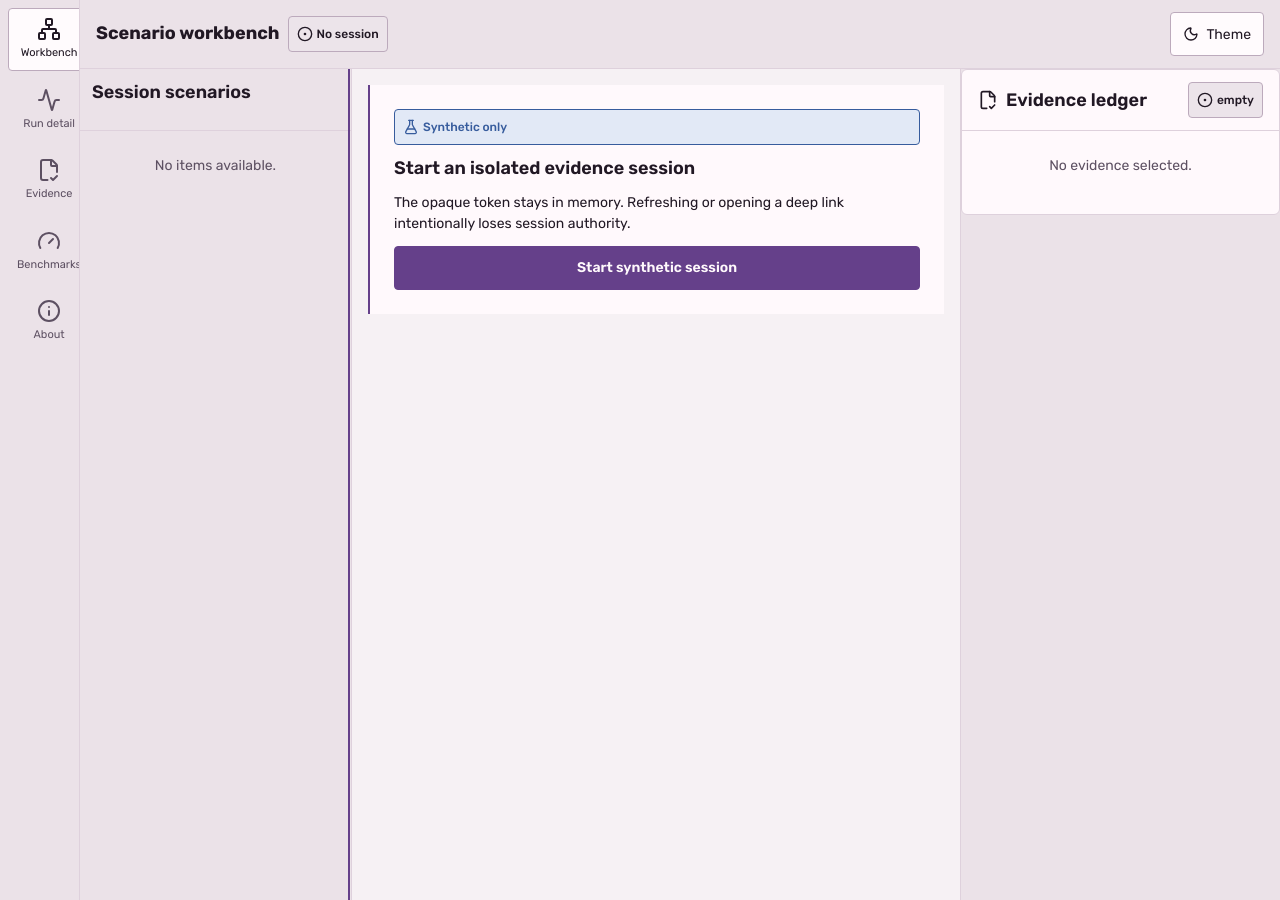
it: governed console lifecycle › keeps an empty scenario seed local and shows an actionable field error
Click the button "Start synthetic session" at (657, 268), box [394,246,920,290]
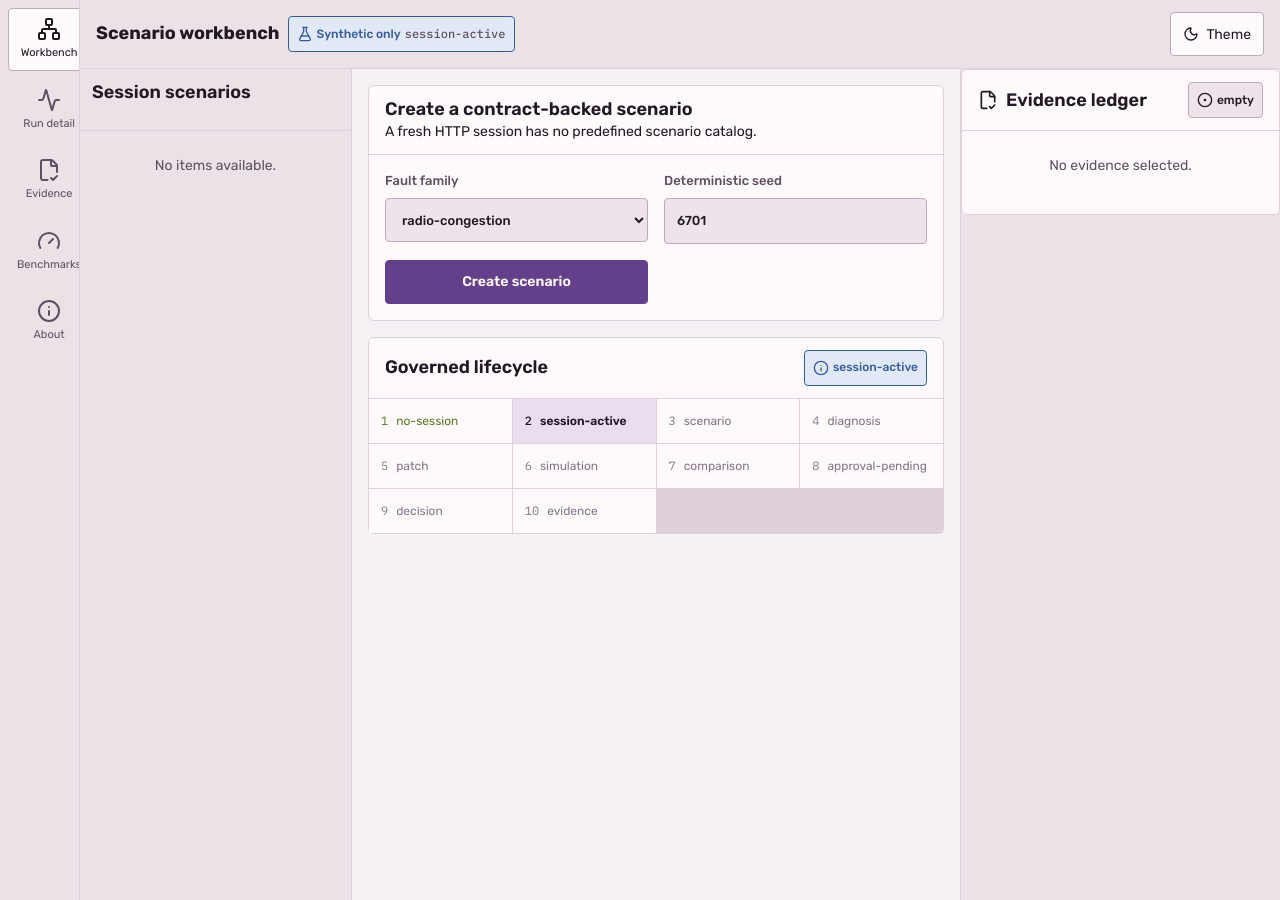
Clear the number field labelled "Deterministic seed" at (796, 221), box [664,198,927,244]
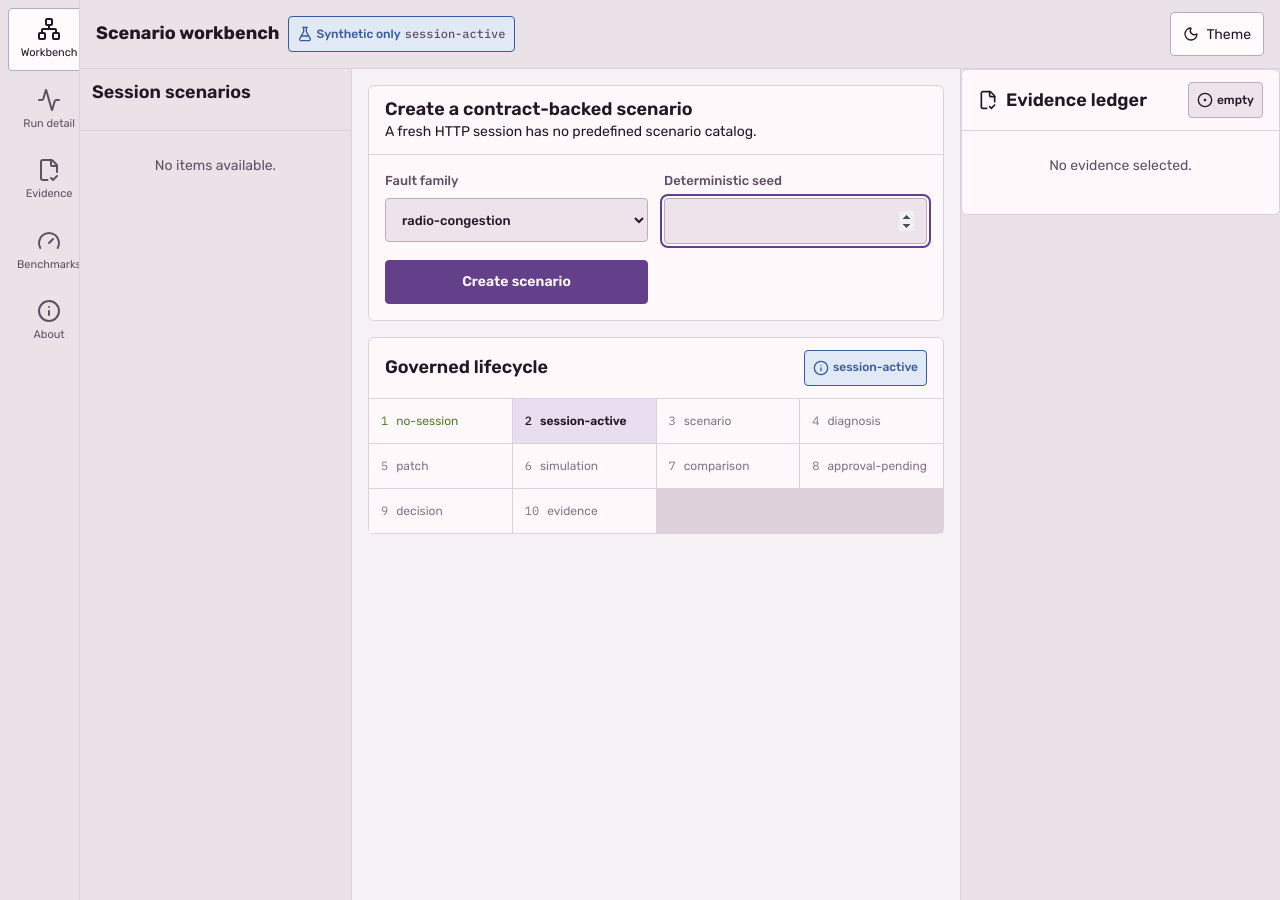
Click the button "Create scenario" at (516, 282), box [385,260,648,304]
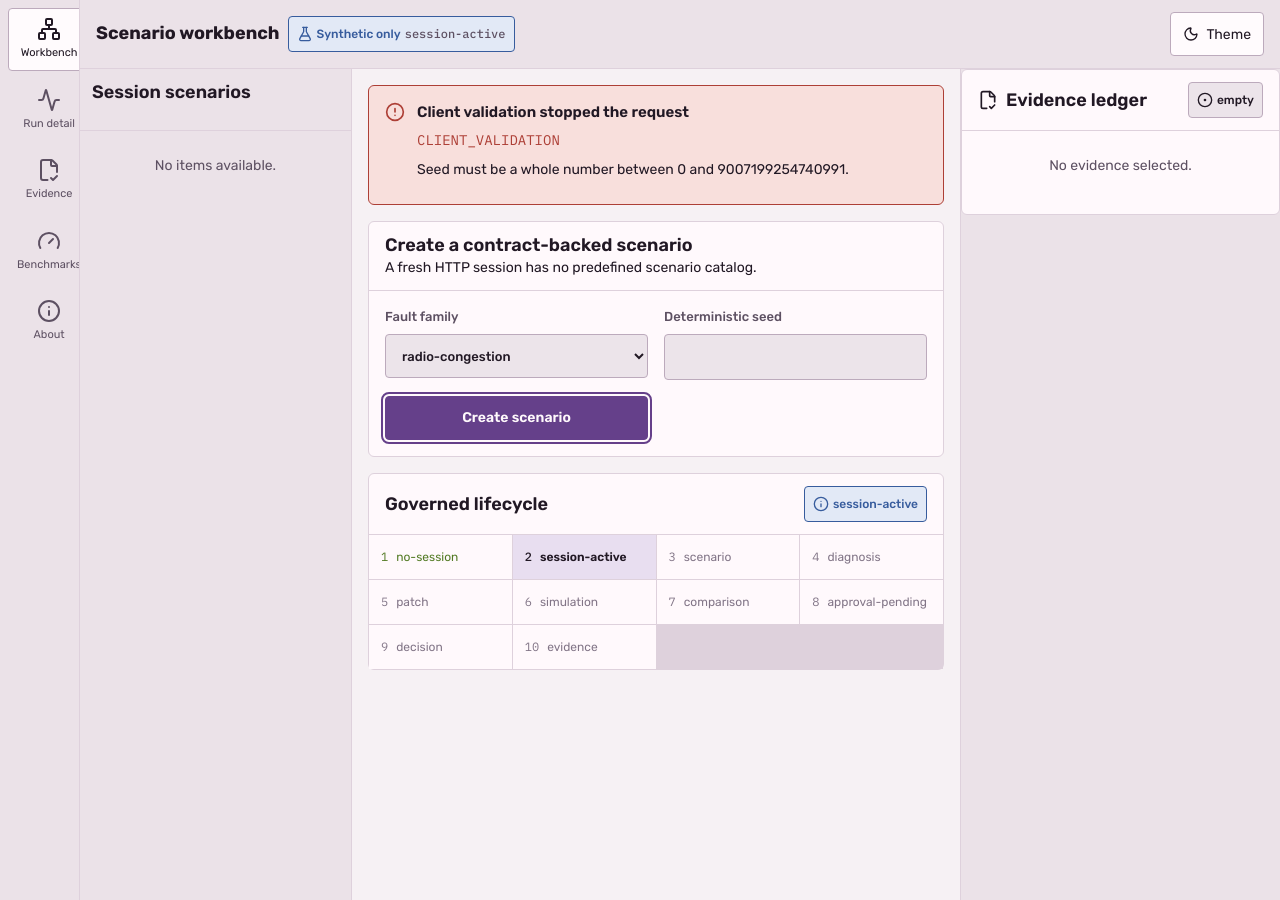
Result: the text "Seed must be a whole number between 0 and 9007199254740991." is shown at [417,159,915,180]
